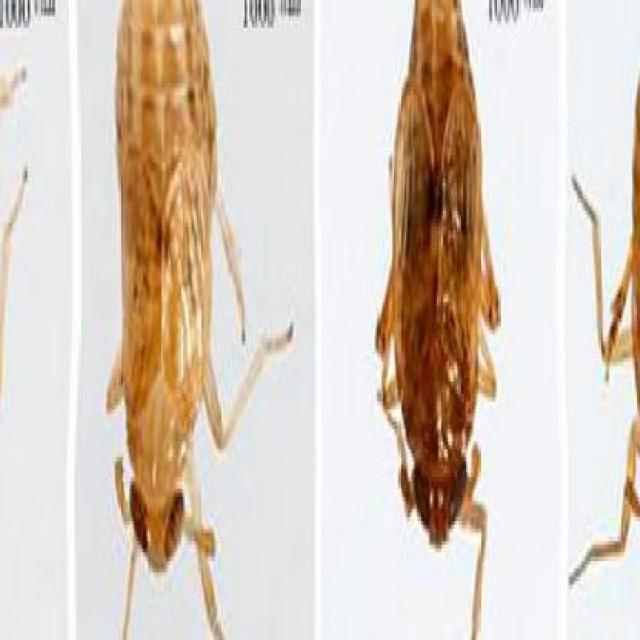brown-planthopper: (106, 4, 220, 574), (382, 4, 484, 556)
